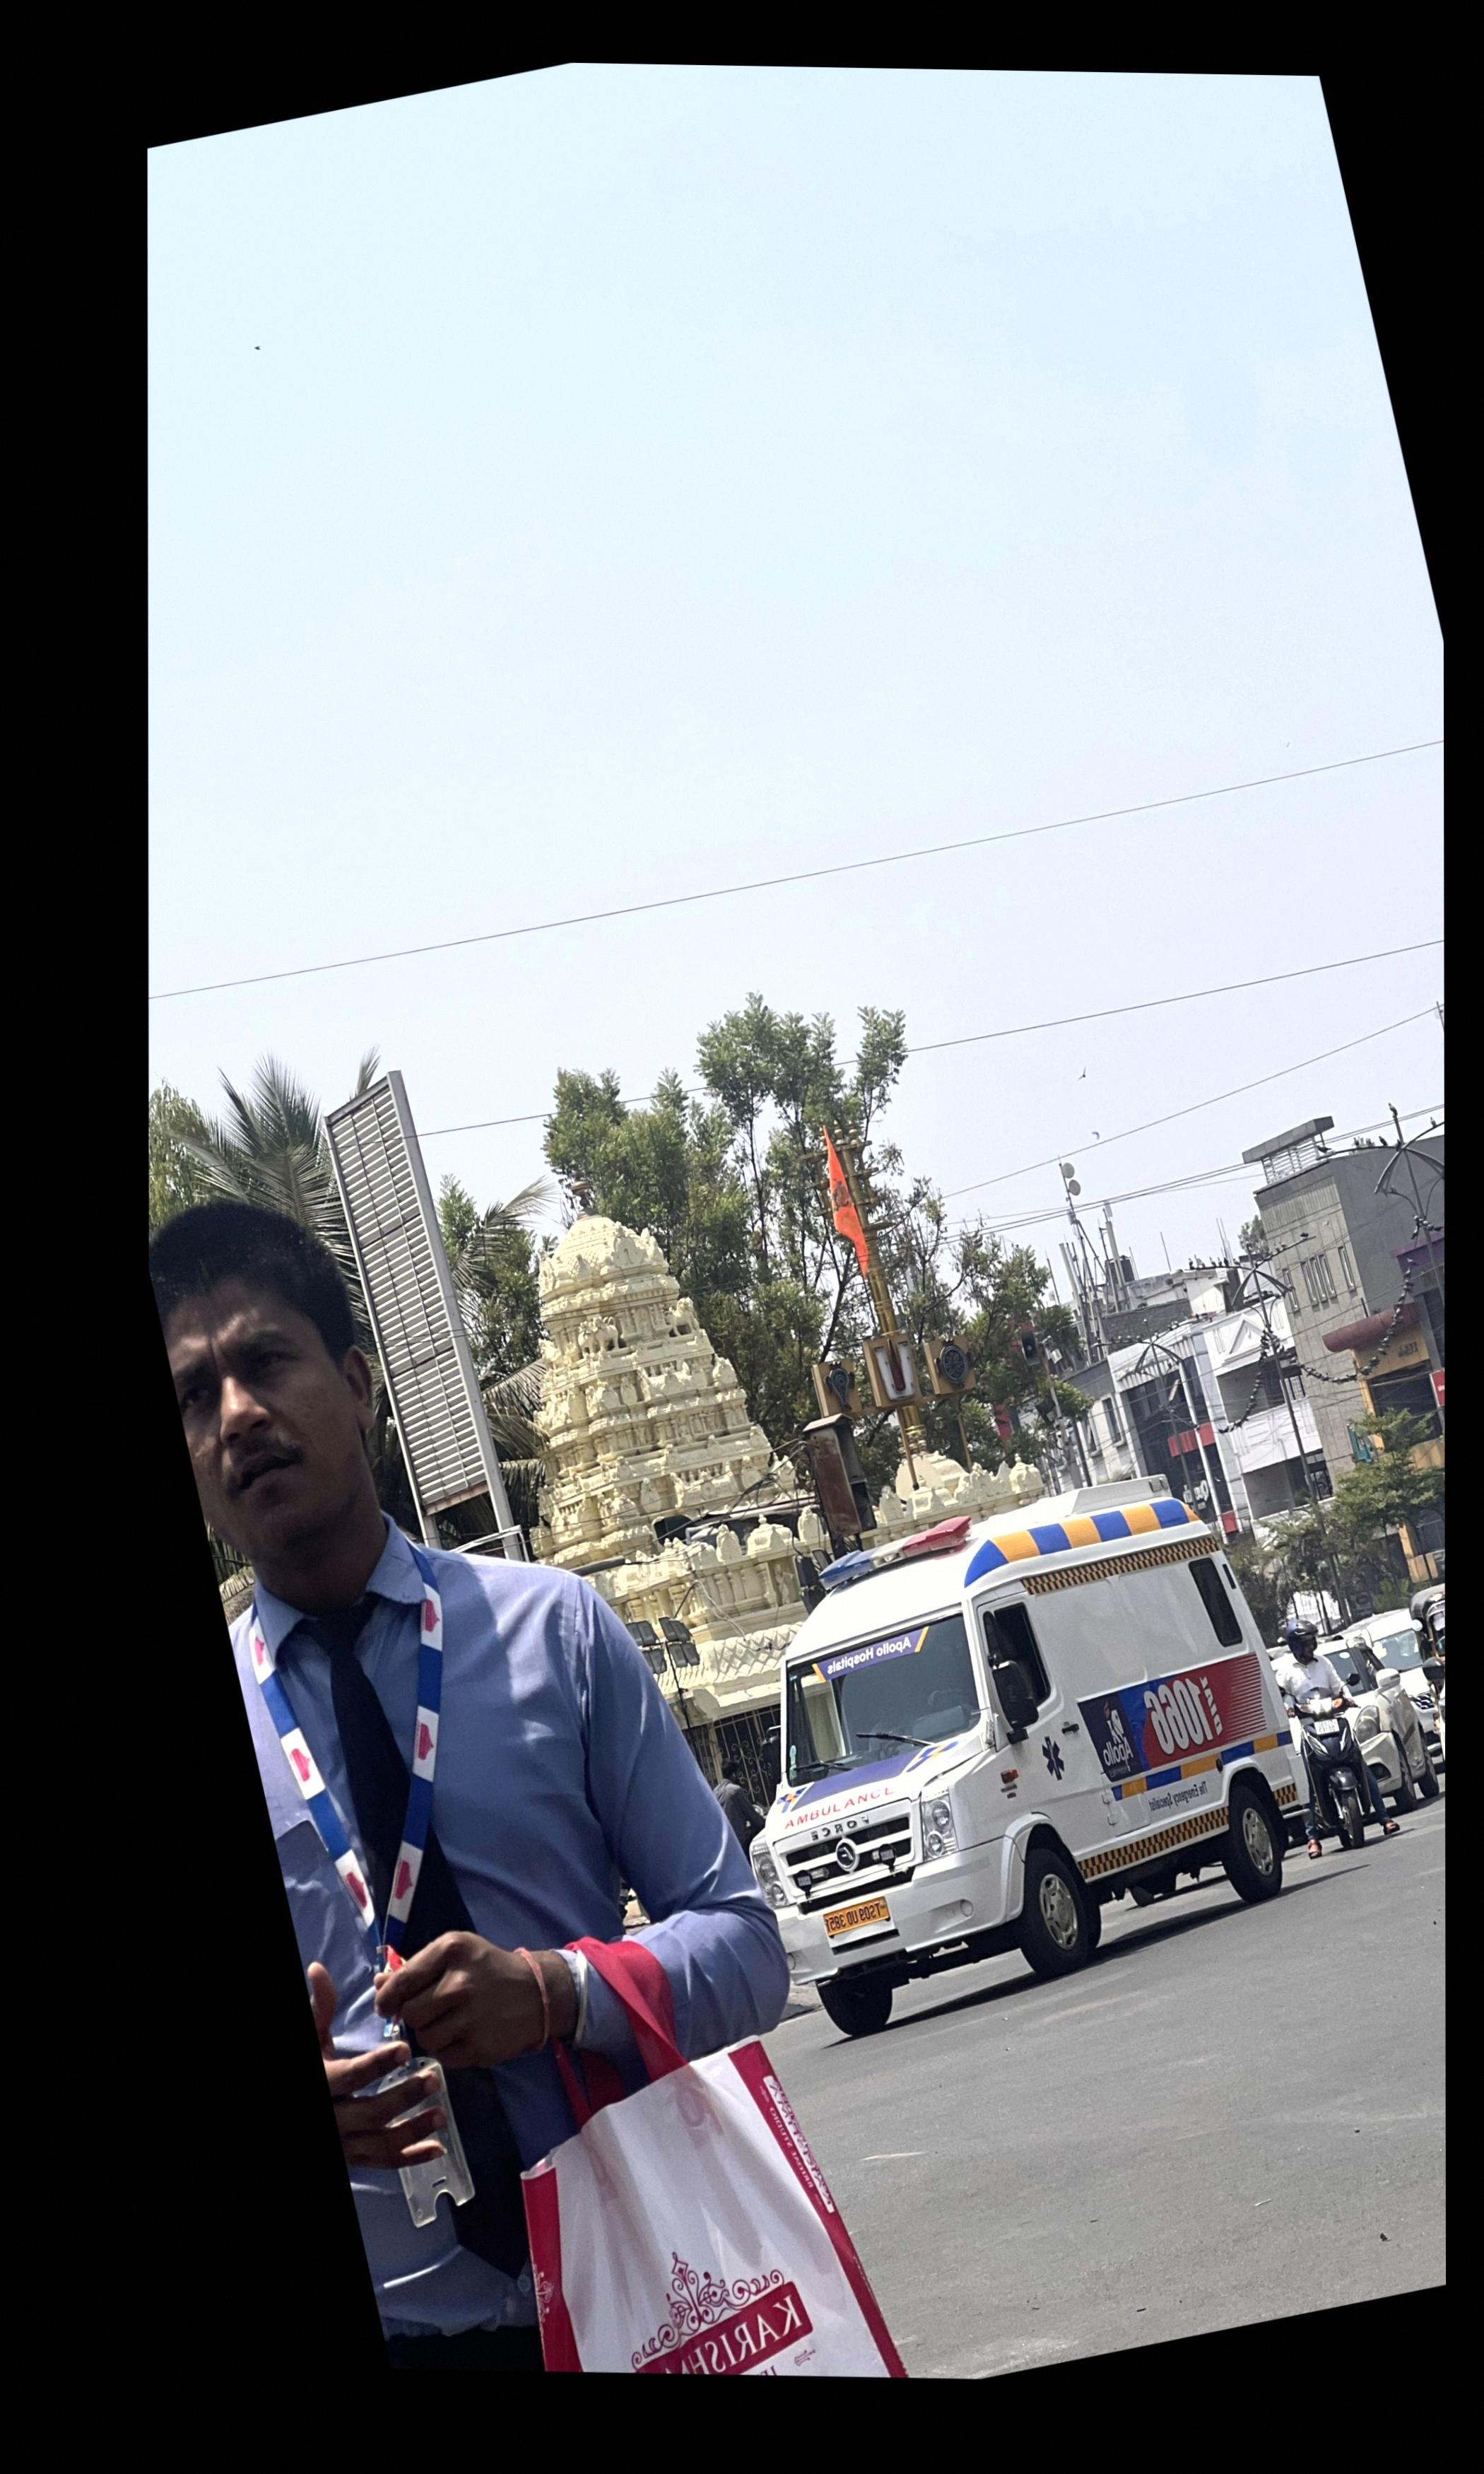ambulance: (749, 1468, 1313, 2027)
